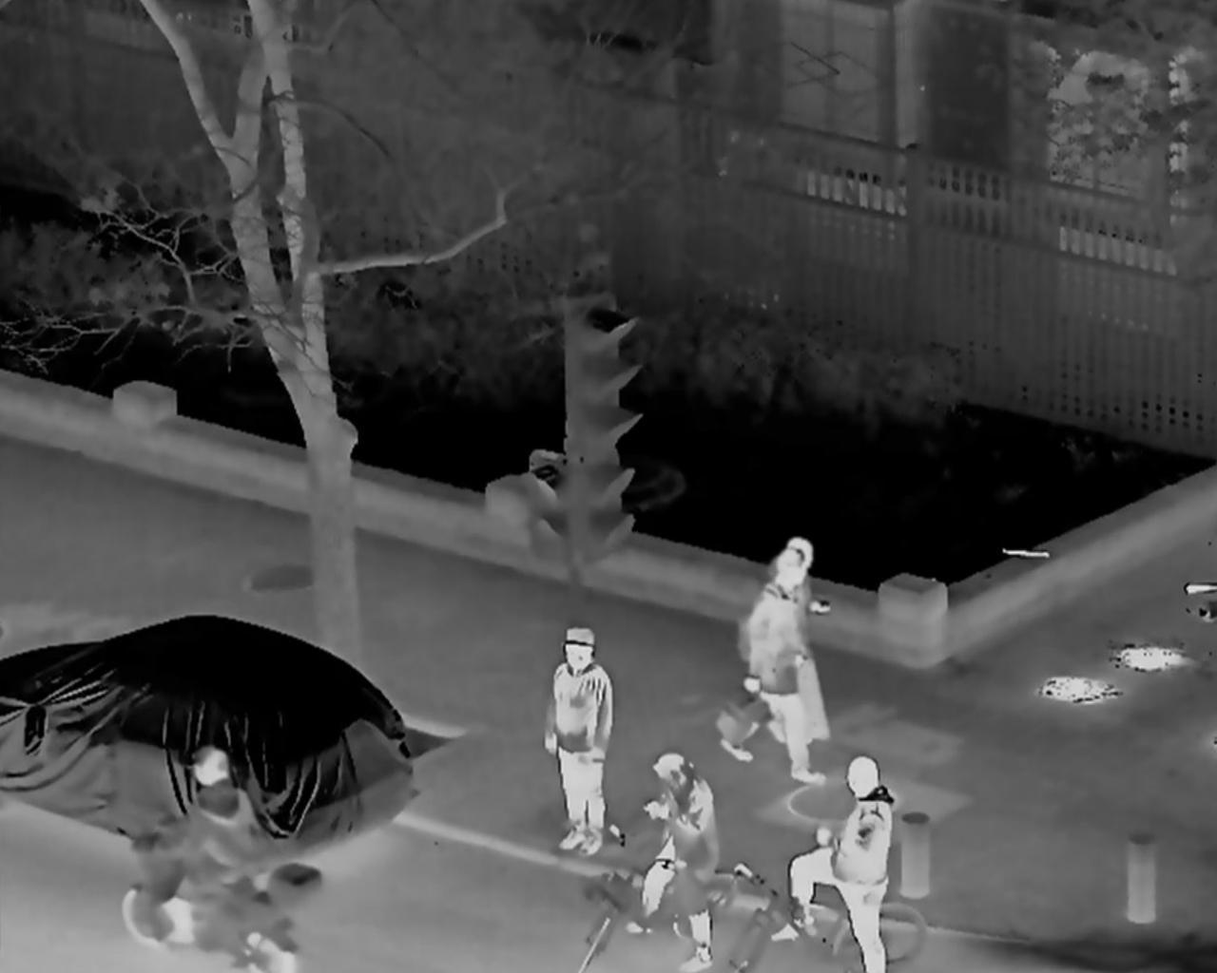person: (782, 757, 899, 973), (144, 745, 263, 946), (726, 551, 819, 780), (634, 750, 722, 973), (541, 630, 613, 864), (760, 534, 835, 749)
